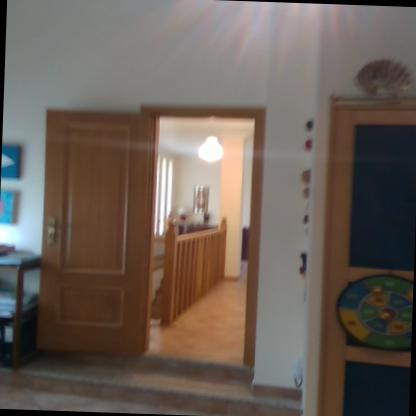closed: (295, 60, 415, 415)
open: (32, 70, 282, 402)
